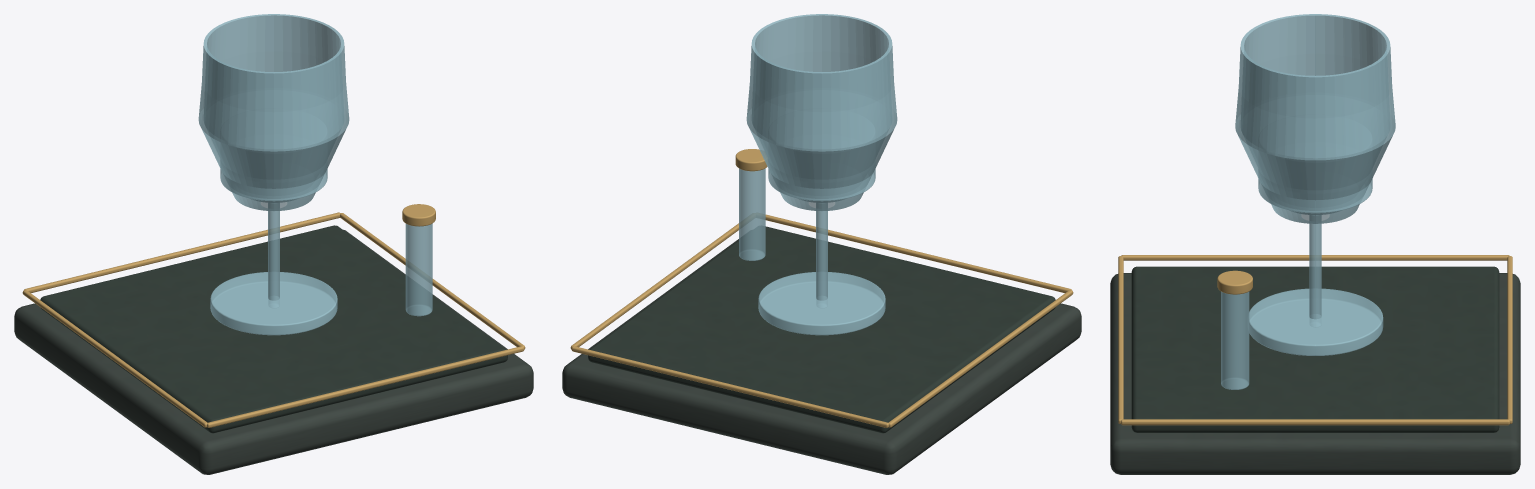
The model's file is wine-glass.glb.
3 renders of one model, left to right at view 1: azimuth 30°, elevation 25°; view 2: azimuth 150°, elevation 25°; view 3: azimuth 270°, elevation 25°, orthographic. The views are drawn at different scales.
Visible parts, largest first — view 1: felt_insert, glass_rim, display_base, glass_foot, sample_vial, liquid_sample, brass_rim_Front, brass_rim_Back, brass_rim_Left, glass_stem, brass_rim_Right, sample_cap; view 2: felt_insert, glass_rim, display_base, glass_foot, sample_vial, liquid_sample, brass_rim_Back, brass_rim_Front, brass_rim_Left, brass_rim_Right, glass_stem, sample_cap; view 3: felt_insert, glass_rim, display_base, glass_foot, sample_vial, brass_rim_Right, liquid_sample, brass_rim_Left, glass_stem, brass_rim_Back, brass_rim_Front, sample_cap.
Part boxes in pixels (x1,y1,x2,y2): felt_insert: (40,225,507,433); glass_rim: (198,14,349,210); display_base: (14,229,533,474); glass_foot: (210,272,337,335); sample_vial: (405,223,432,316); liquid_sample: (220,160,327,201); brass_rim_Front: (207,346,524,427); brass_rim_Back: (24,212,340,292); brass_rim_Left: (22,290,207,427); glass_stem: (268,203,279,308); brass_rim_Right: (340,213,525,349); sample_cap: (402,204,435,226); felt_insert: (588,226,1055,433); glass_rim: (746,14,897,210); display_base: (562,239,1081,474); glass_foot: (758,272,885,335); sample_vial: (739,168,765,260); liquid_sample: (768,160,875,201); brass_rim_Back: (571,346,888,427); brass_rim_Front: (765,214,1071,292); brass_rim_Left: (888,290,1073,427); brass_rim_Right: (570,223,738,349); glass_stem: (816,203,827,308); sample_cap: (735,149,767,171); felt_insert: (1131,266,1499,432); glass_rim: (1235,14,1395,223); display_base: (1110,273,1520,474); glass_foot: (1249,288,1383,355); sample_vial: (1221,291,1249,389); brass_rim_Right: (1121,419,1509,425); liquid_sample: (1258,169,1372,213); brass_rim_Left: (1121,255,1509,260); glass_stem: (1309,215,1321,327); brass_rim_Back: (1507,256,1512,423); brass_rim_Front: (1118,256,1123,423); sample_cap: (1217,270,1252,294).
Bounding box in the file's own units: 0.23 × 0.214 × 0.23.
4 materials, 2 textured.
